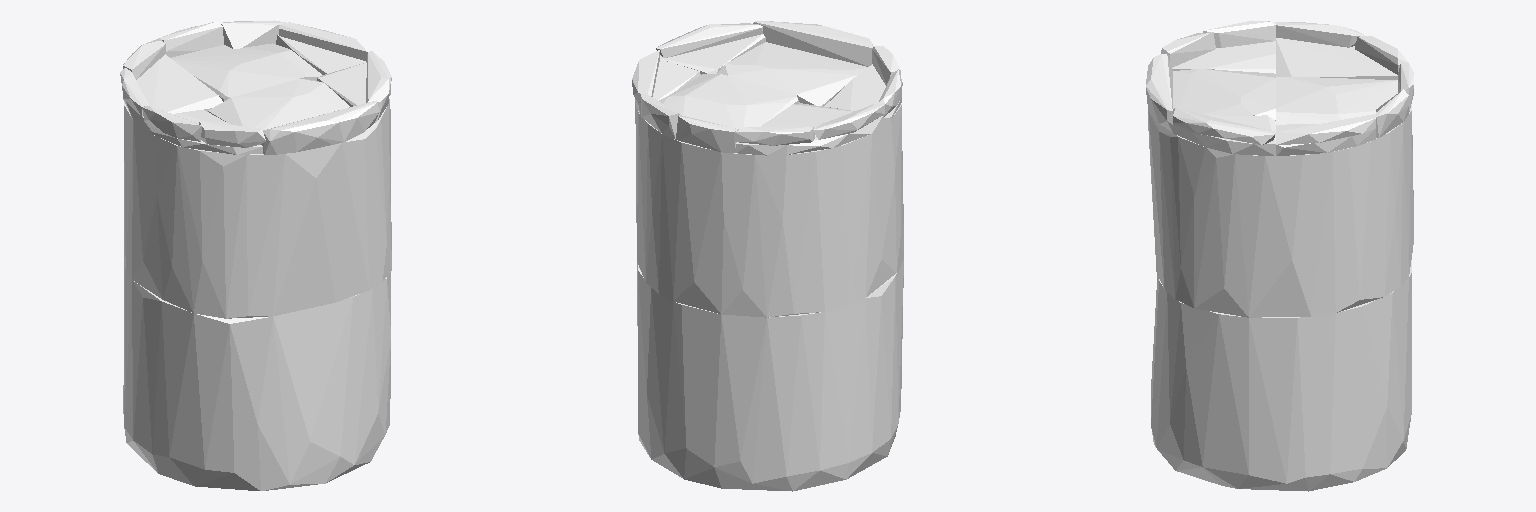
robot.urdf — model.urdf:
<robot name="model.urdf">
  <link name="baseLink">
    <contact>
      <lateral_friction value="0.48"/>
      <rolling_friction value="0.001"/>
      <spinning_friction value="0.001"/>
      <contact_cfm value="0.0"/>
      <contact_erp value="1.0"/>
    </contact>
    <inertial>
       <origin rpy="0 0 0" xyz="0 0.0 -0.02"/>
       <mass value=".536"/>
       <inertia ixx="1e-3" ixy="0" ixz="0" iyy="1e-3" iyz="0" izz="1e-3"/>
    </inertial>
    <visual>
      <geometry>
        <mesh filename="textured_v1.obj" scale="1 1 1"/>
      </geometry>
      <material name="white">
        <color rgba="1 1 1 1"/>
      </material>
    </visual>
    <collision>
      <geometry>
    	 	<mesh filename="textured_v1.obj" scale="1 1 1"/>
      </geometry>
    </collision>
  </link>
</robot>

--- Facts derived from the render (not from the file) ---
Views: 3 orthographic renders of the robot side by side, from view 1: azimuth 30°, elevation 25°; view 2: azimuth 150°, elevation 25°; view 3: azimuth 270°, elevation 25°.
Robot: model.urdf — 1 links, 0 joints (none); root link baseLink; default pose: all joints at 0.
Links seen in each view (by area): view 1: baseLink; view 2: baseLink; view 3: baseLink.
Boxes of the visible links, x1,y1,x2,y2 form: baseLink: (120, 20, 391, 490); baseLink: (632, 21, 903, 491); baseLink: (1146, 20, 1413, 491).
Bounding box of the posed robot: 0.0686 × 0.0686 × 0.1025 m (x, y, z).
Meshes: 1 distinct files referenced, 1 mesh visuals loaded (1 OBJ).